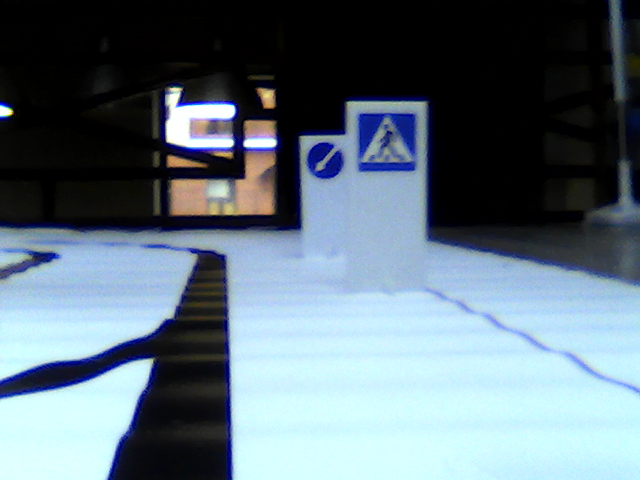pesh: (356, 110, 417, 173)
prep: (305, 139, 345, 178)
